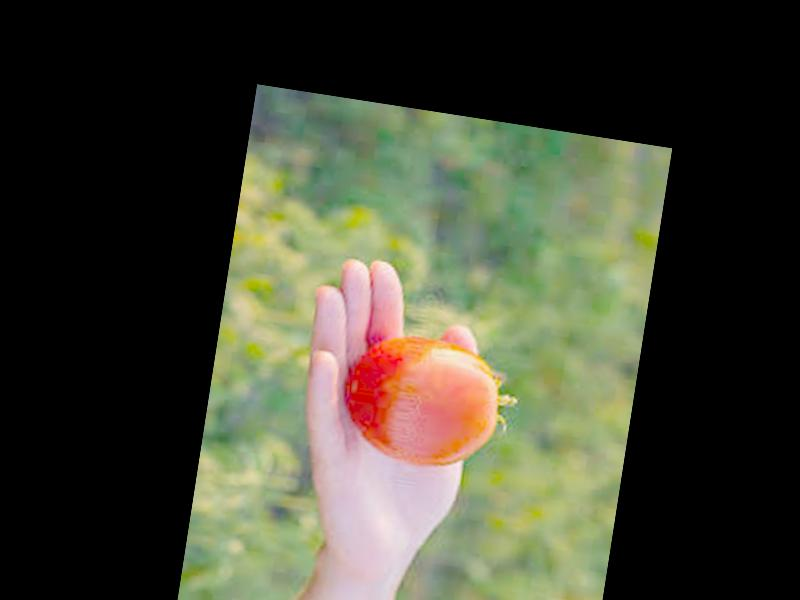Tomato: (332, 328, 505, 474)
